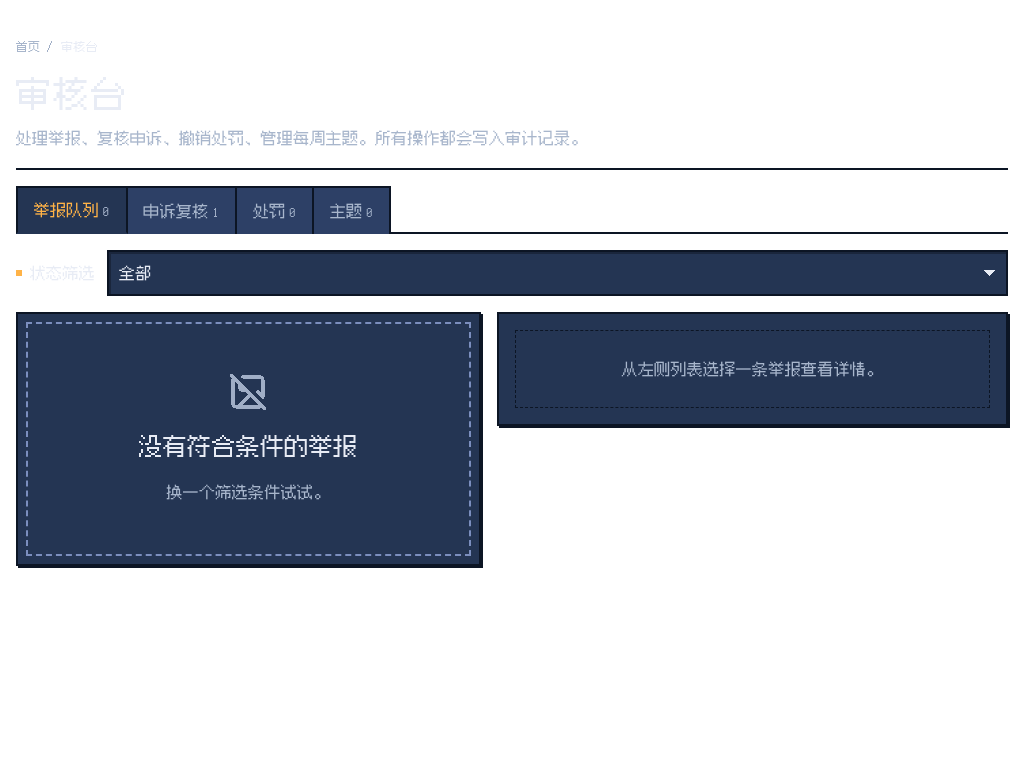
Test case: 申诉复核 › 复核意见为空时前端拦截，不发请求
Step 1. Click the tab "申诉复核1" → click(181, 210), box [126,186,237,234]
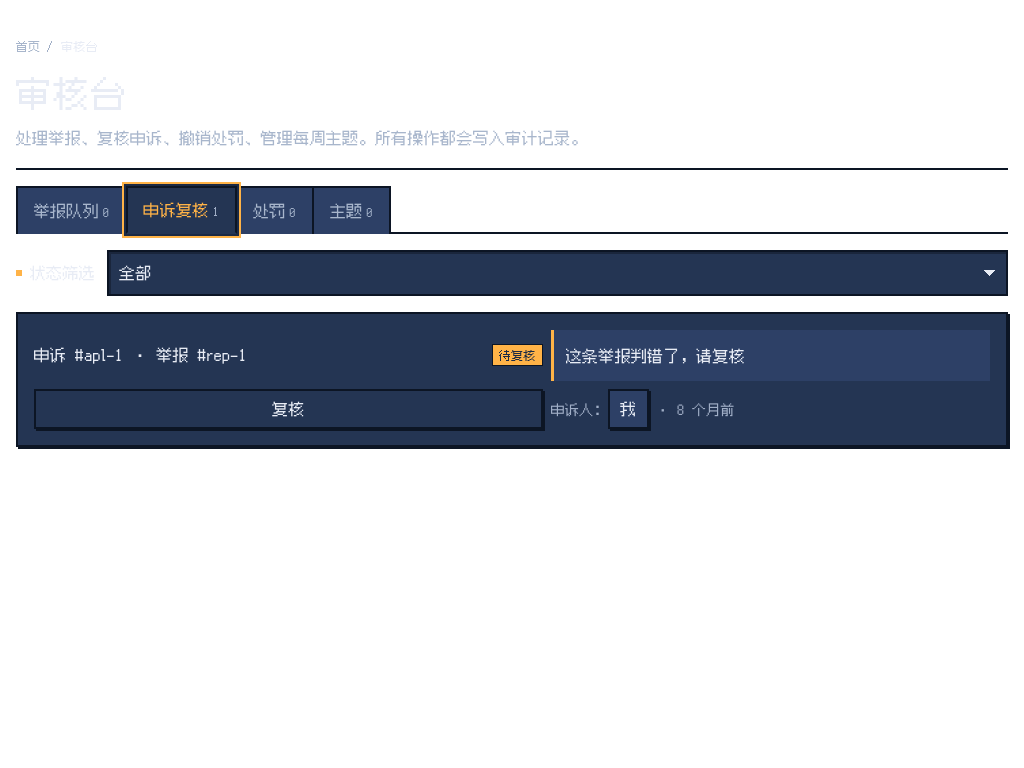
Step 2. Click the button "复核" → click(288, 409), box [34,389,543,429]
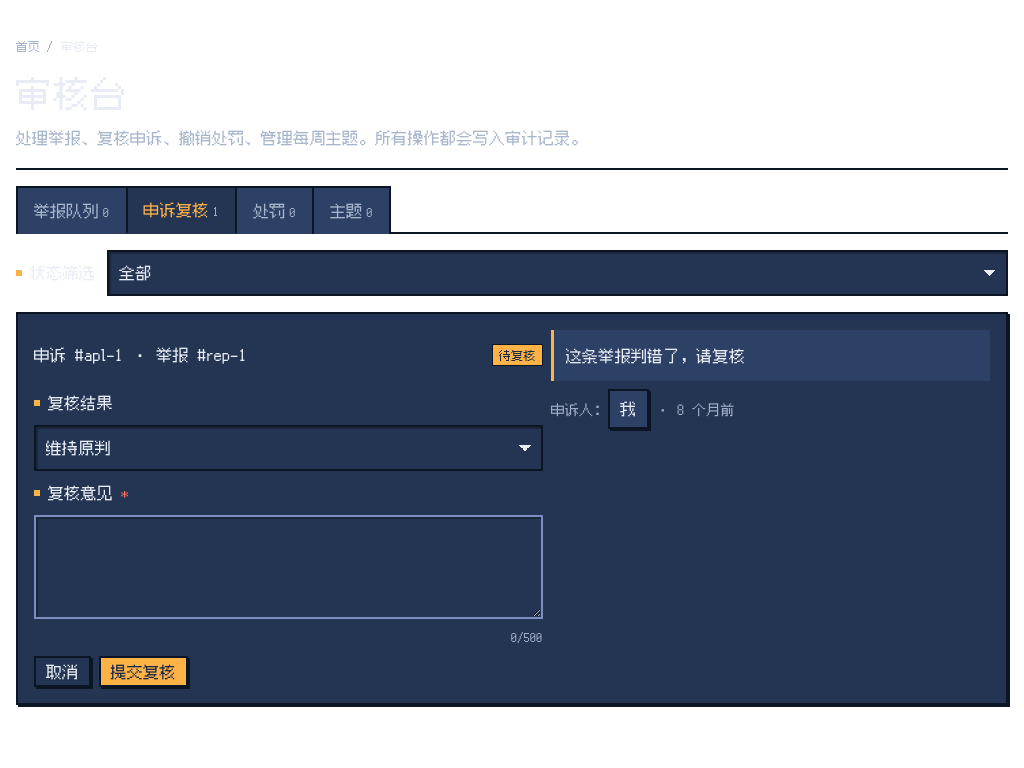
Step 3. Click the button "提交复核" → click(143, 672), box [99,656,188,687]
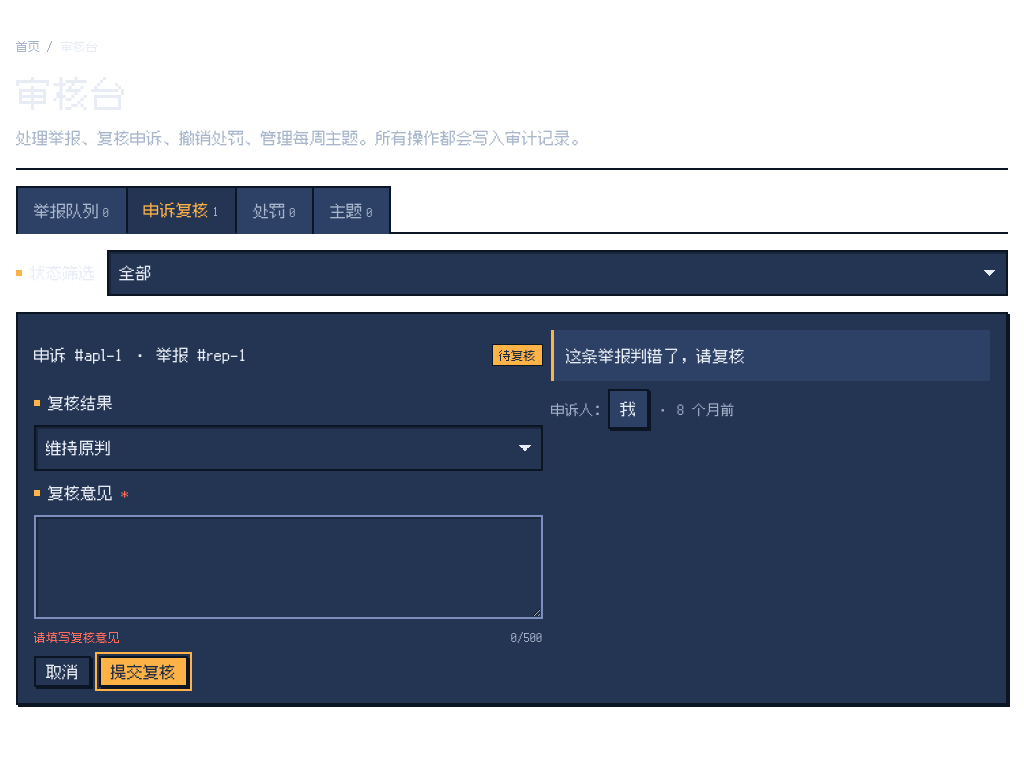
Result: the message reads "请填写复核意见" at [34,629,120,645]
